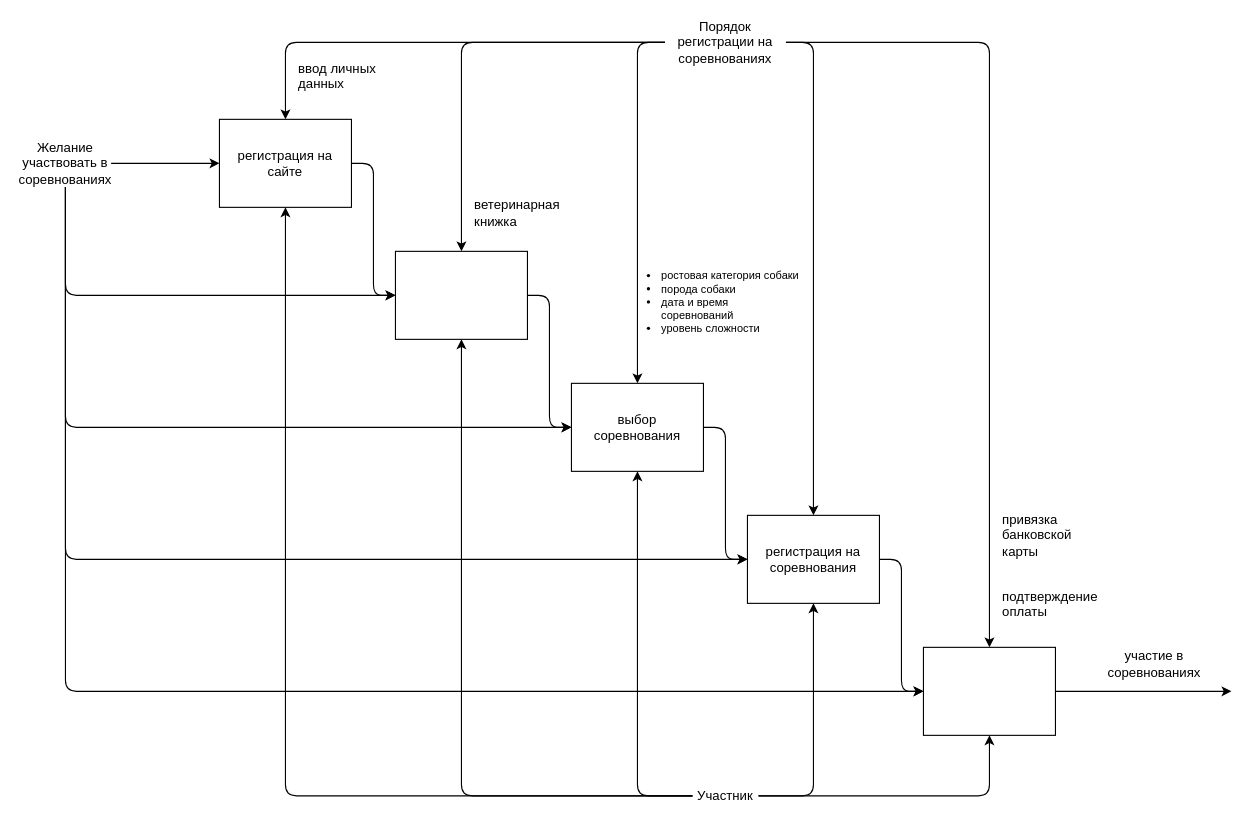
Image size: 1260x832. Some labels were removed from this diagram. The shapes that lost their labels are listed below. From the top down, each one's centre as x and y in pixels, then its label:
At (x=460, y=294): "Сбор пакета документов".
At (x=988, y=690): "оплата".
